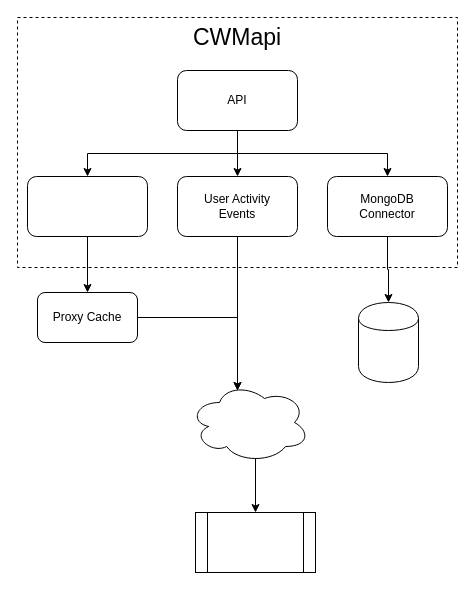
Image size: 475x590. Some labels were removed from this diagram. Each missing label, with the centre of its shape:
"Mongo" belongs at pixel 388 342.
"User Activity Service" belongs at pixel 255 542.
"User Follows" belongs at pixel 87 206.
